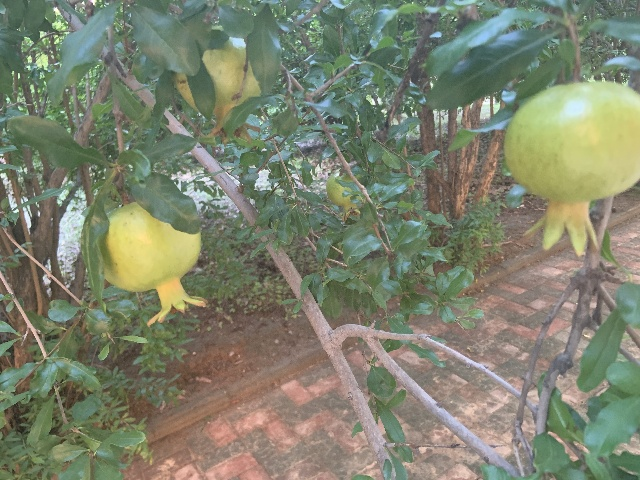mid-growth: (503, 80, 640, 258), (103, 201, 207, 325), (175, 25, 261, 147), (325, 169, 360, 222)
